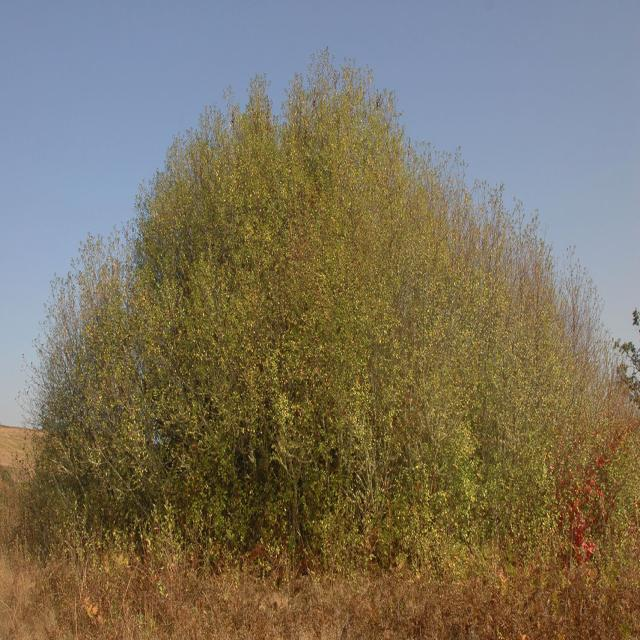Prunus emarginata: (24, 43, 615, 571)
